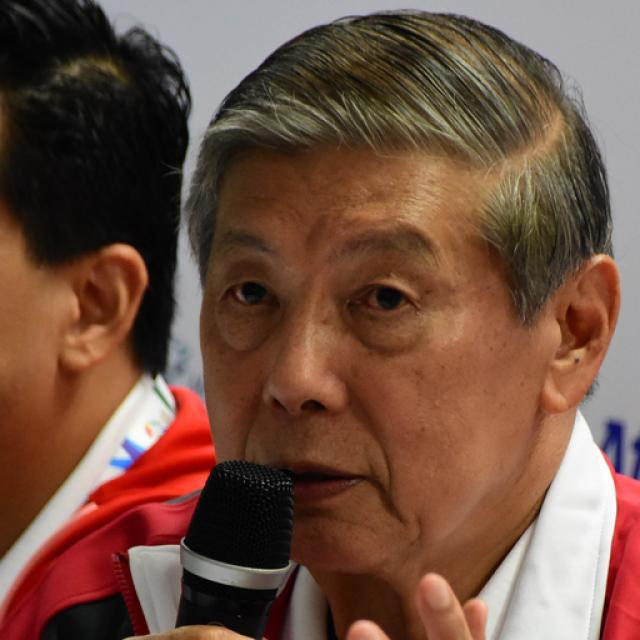surprise: (198, 136, 544, 576)
